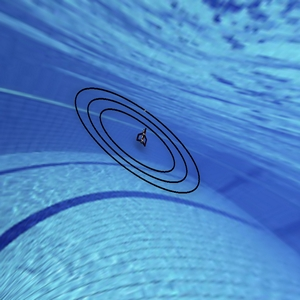circle: (62, 72, 216, 202)
submarine: (121, 123, 155, 148)
